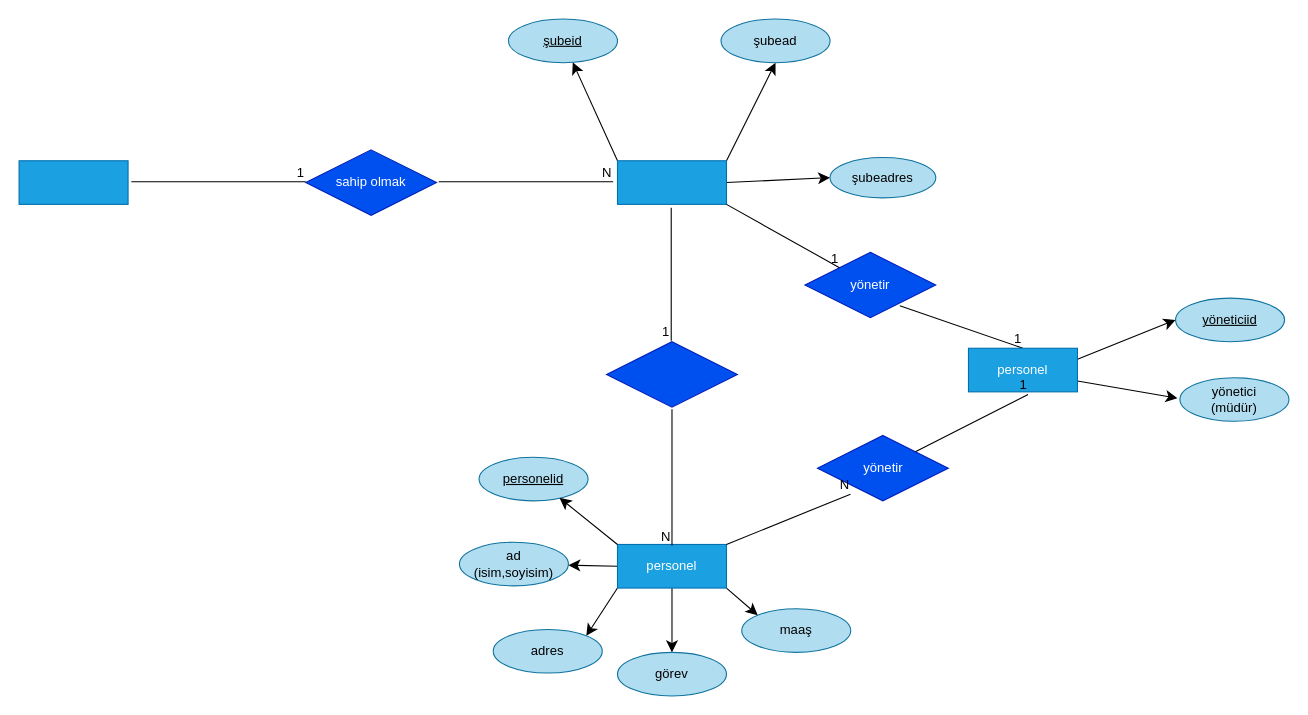
Image size: 1308x715. Some labels were removed from this diagram. The centre of each missing label's shape, as x and y in pixels:
"çalışır" belongs at pixel 671 374.
"şirket" belongs at pixel 73 182.
"şube" belongs at pixel 671 182.
